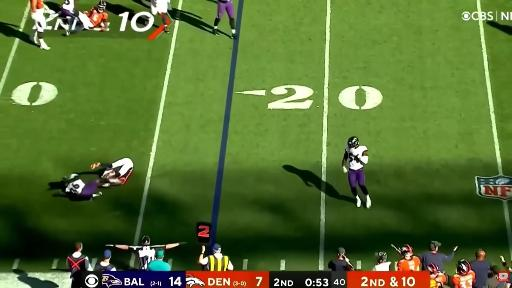Helmet: (456, 259, 471, 275), (347, 136, 359, 148), (427, 264, 439, 275), (401, 245, 413, 256), (63, 174, 75, 184), (376, 252, 387, 262), (97, 0, 106, 11), (95, 178, 108, 185), (72, 9, 80, 18)
Jersey: (102, 158, 133, 184), (346, 146, 367, 170), (452, 271, 475, 287), (88, 8, 107, 27), (397, 256, 420, 271), (65, 179, 85, 195), (372, 262, 391, 271), (434, 273, 446, 286), (62, 0, 74, 11), (36, 0, 44, 9), (430, 279, 437, 287)
Player: (342, 137, 371, 207), (67, 0, 107, 35), (91, 158, 133, 186), (61, 174, 101, 199), (31, 0, 50, 50), (47, 0, 78, 30), (213, 0, 236, 39), (151, 0, 171, 33), (452, 260, 475, 287), (397, 245, 420, 271), (427, 264, 446, 287)
